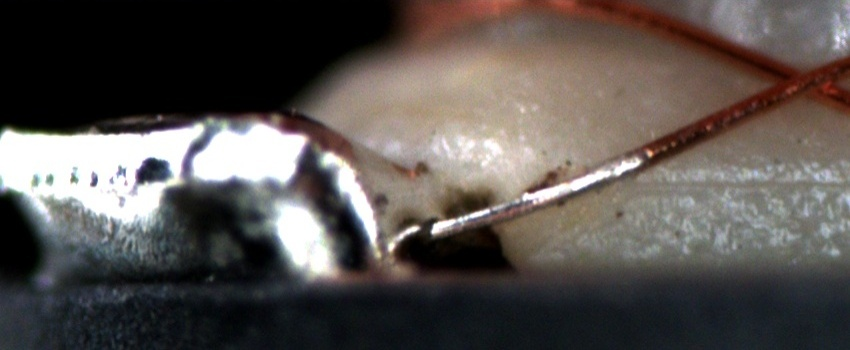CL: (757, 51, 843, 105)
DL: (617, 154, 850, 218)
TS: (404, 150, 643, 244)
